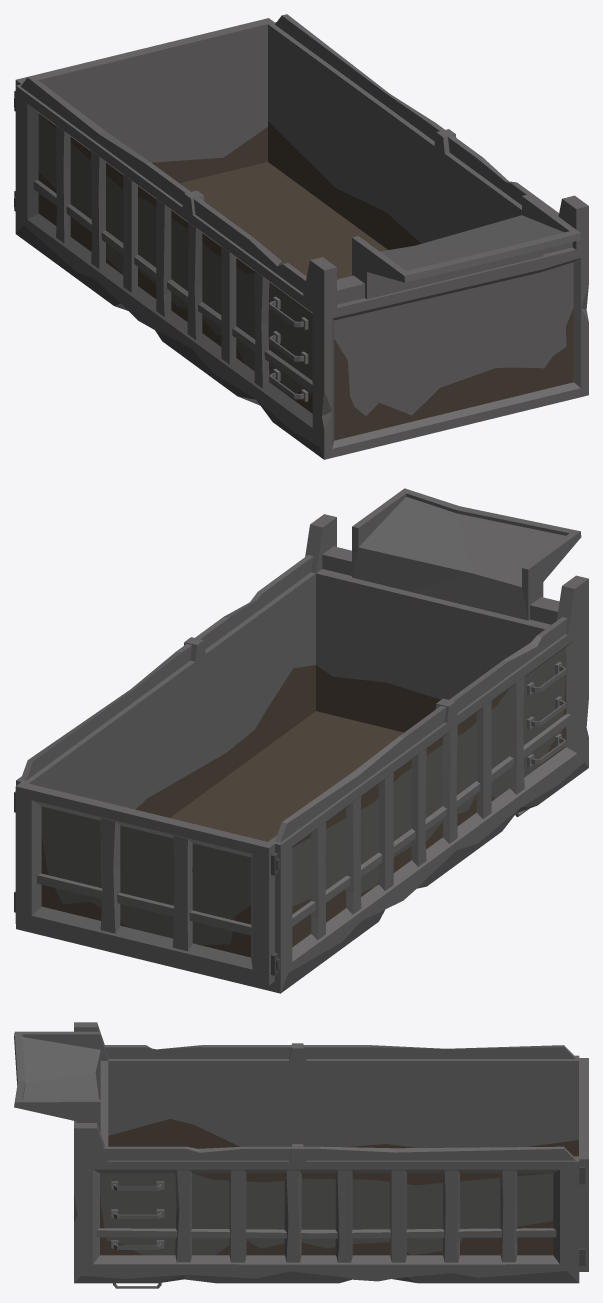
File: SM_Veh_Truck_01_DumpTray_01.fbx
3 renders of one model, top to bottom at view 1: azimuth 30°, elevation 25°; view 2: azimuth 150°, elevation 25°; view 3: azimuth 270°, elevation 25°, orthographic. The views are drawn at different scales.
Visible parts, largest first — view 1: SM_Veh_Truck_01_DumpTray_01, SM_Veh_Truck_01_DumpTray_01_Door; view 2: SM_Veh_Truck_01_DumpTray_01, SM_Veh_Truck_01_DumpTray_01_Door; view 3: SM_Veh_Truck_01_DumpTray_01, SM_Veh_Truck_01_DumpTray_01_Door.
Boxes of the visible parts, x1,y1,x2,y2 form: SM_Veh_Truck_01_DumpTray_01: [14, 14, 588, 459]; SM_Veh_Truck_01_DumpTray_01_Door: [14, 18, 274, 211]; SM_Veh_Truck_01_DumpTray_01: [16, 488, 588, 993]; SM_Veh_Truck_01_DumpTray_01_Door: [14, 782, 278, 985]; SM_Veh_Truck_01_DumpTray_01: [14, 1022, 582, 1288]; SM_Veh_Truck_01_DumpTray_01_Door: [579, 1058, 588, 1271].
Bounding box in the file's own units: 333 × 268 × 746.
